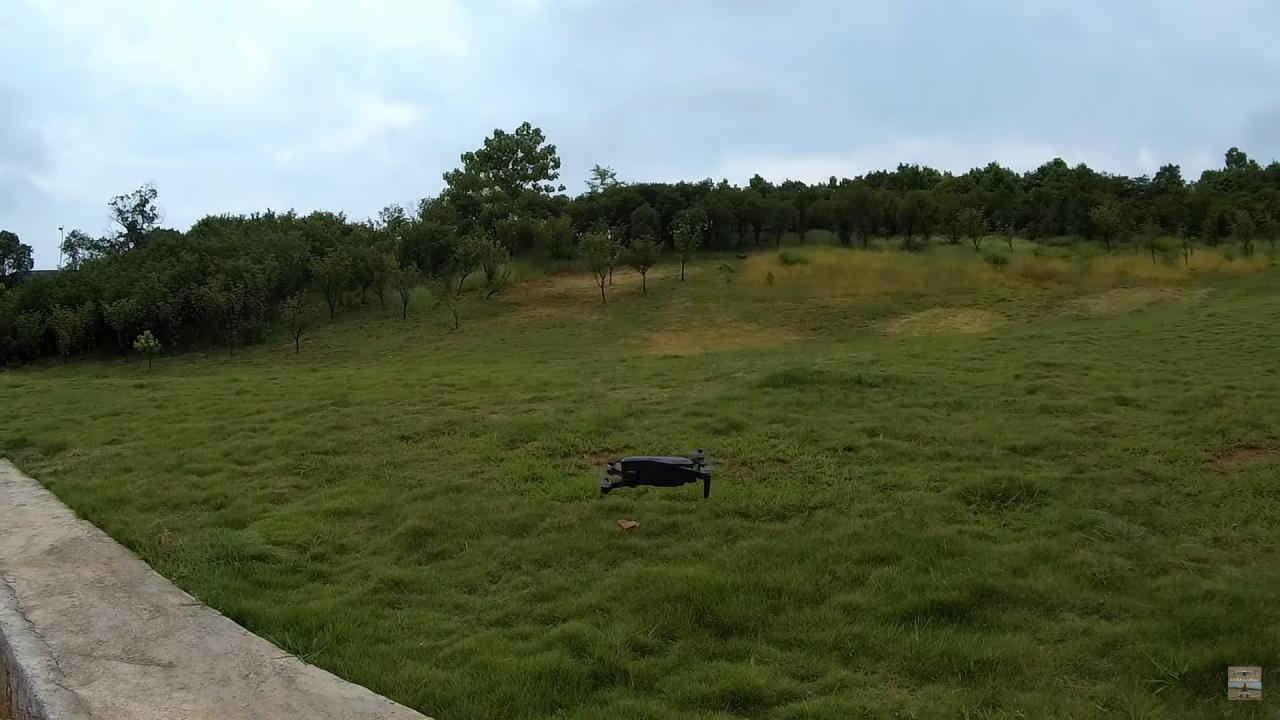Drone: (579, 430, 732, 511)
